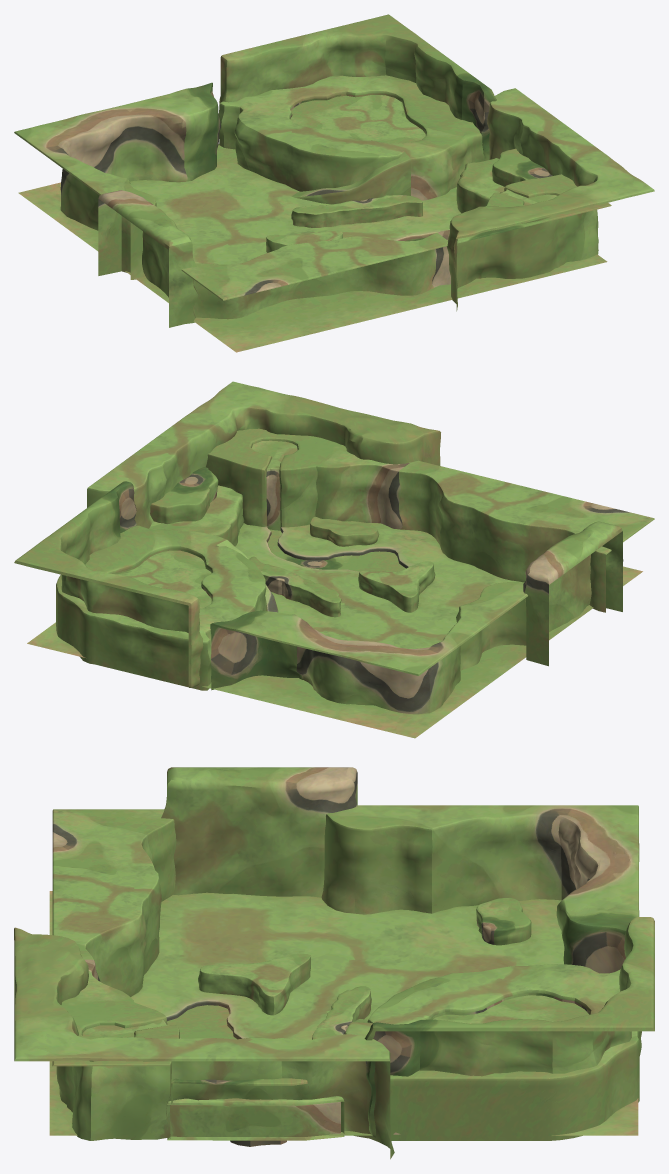
The model's file is map_V2.fbx.
3 views of the same model, one above another, from view 1: azimuth 30°, elevation 25°; view 2: azimuth 150°, elevation 25°; view 3: azimuth 270°, elevation 25° (orthographic). The views are drawn at different scales.
Parts seen in each view (by area): view 1: mapbase_geo, mainlake_geo, toprightwall_geo, bottomleftwall_geo, rightwall_geo, toplakewall_geo, highestwall_geo, mainlake_water_geo, longrock_geo, ramp_geo, hiddencave_geo, topcave_geo (+1 smaller); view 2: rightwall_geo, mapbase_geo, bottomleftwall_geo, toprightwall_geo, mainlake_geo, toplakewall_geo, highestwall_geo, mainlake_water_geo, topcave_geo, trianglerock_geo, longrock_geo, hiddencave_geo (+3 smaller); view 3: mapbase_geo, bottomleftwall_geo, toprightwall_geo, mainlake_geo, rightwall_geo, highestwall_geo, toplakewall_geo, hiddencave_geo, trianglerock_geo, mainlake_water_geo, smallrock_geo, longrock_geo (+3 smaller).
Part boxes in pixels (x1=…): mapbase_geo: x1=18, y1=144, x2=607, y2=352; mainlake_geo: x1=218, y1=75, x2=484, y2=200; toprightwall_geo: x1=447, y1=88, x2=654, y2=311; bottomleftwall_geo: x1=14, y1=82, x2=220, y2=279; rightwall_geo: x1=181, y1=174, x2=611, y2=319; toplakewall_geo: x1=219, y1=14, x2=496, y2=160; highestwall_geo: x1=98, y1=190, x2=198, y2=327; mainlake_water_geo: x1=290, y1=95, x2=425, y2=143; longrock_geo: x1=291, y1=195, x2=422, y2=227; ramp_geo: x1=292, y1=152, x2=410, y2=204; hiddencave_geo: x1=456, y1=158, x2=504, y2=213; topcave_geo: x1=492, y1=148, x2=552, y2=186; rightwall_geo: x1=206, y1=428, x2=654, y2=612; mapbase_geo: x1=27, y1=523, x2=642, y2=738; bottomleftwall_geo: x1=210, y1=582, x2=527, y2=714; toprightwall_geo: x1=87, y1=381, x2=440, y2=528; mainlake_geo: x1=56, y1=525, x2=267, y2=690; toplakewall_geo: x1=14, y1=481, x2=203, y2=687; highestwall_geo: x1=523, y1=521, x2=623, y2=666; mainlake_water_geo: x1=118, y1=550, x2=211, y2=608; topcave_geo: x1=150, y1=466, x2=218, y2=523; trianglerock_geo: x1=358, y1=561, x2=435, y2=612; longrock_geo: x1=249, y1=556, x2=341, y2=617; hiddencave_geo: x1=149, y1=485, x2=244, y2=546; mapbase_geo: x1=49, y1=891, x2=638, y2=1146; bottomleftwall_geo: x1=321, y1=805, x2=639, y2=973; toprightwall_geo: x1=14, y1=927, x2=394, y2=1159; mainlake_geo: x1=345, y1=964, x2=641, y2=1140; rightwall_geo: x1=52, y1=809, x2=179, y2=1138; highestwall_geo: x1=161, y1=767, x2=357, y2=897; toplakewall_geo: x1=364, y1=917, x2=654, y2=1137; hiddencave_geo: x1=166, y1=1096, x2=344, y2=1140; trianglerock_geo: x1=198, y1=953, x2=310, y2=1015; mainlake_water_geo: x1=433, y1=995, x2=589, y2=1023; smallrock_geo: x1=476, y1=898, x2=531, y2=945; longrock_geo: x1=312, y1=986, x2=371, y2=1039.
Size of the model in its own units: 84.97 by 18.63 by 81.38.
